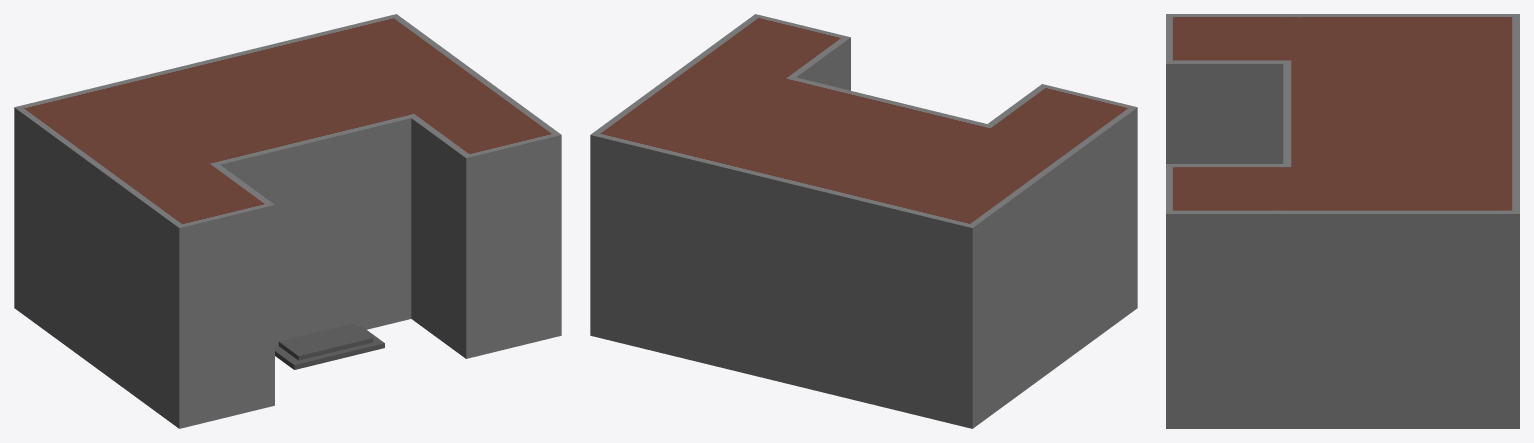
The model's file is School.fbx.
3 renders of one model, left to right at view 1: azimuth 30°, elevation 25°; view 2: azimuth 150°, elevation 25°; view 3: azimuth 270°, elevation 25°, orthographic. The views are drawn at different scales.
Visible parts, largest first — view 1: pPlane75; view 2: pPlane75; view 3: pPlane75.
Boxes of the visible parts, box(x1,y1,x2,y2) form: pPlane75: box(14, 14, 561, 428); pPlane75: box(590, 14, 1137, 428); pPlane75: box(1166, 14, 1519, 428).
Bounding box in the file's own units: 4 × 2.01 × 2.99.
